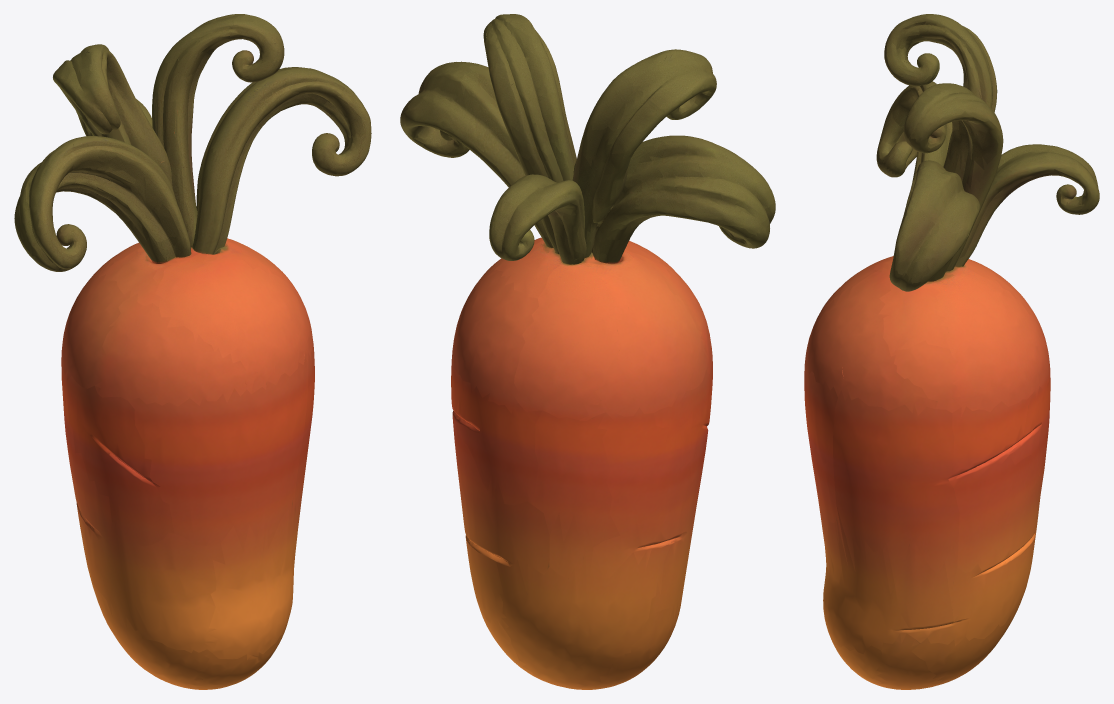
Rendered from meshy-1795543497716.glb.
3 renders of one model, left to right at view 1: azimuth 30°, elevation 25°; view 2: azimuth 150°, elevation 25°; view 3: azimuth 270°, elevation 25°, orthographic. The views are drawn at different scales.
Size of the model in its own units: 1.07 by 1.9 by 0.82.
Materials: 1 (1 with a texture image).
